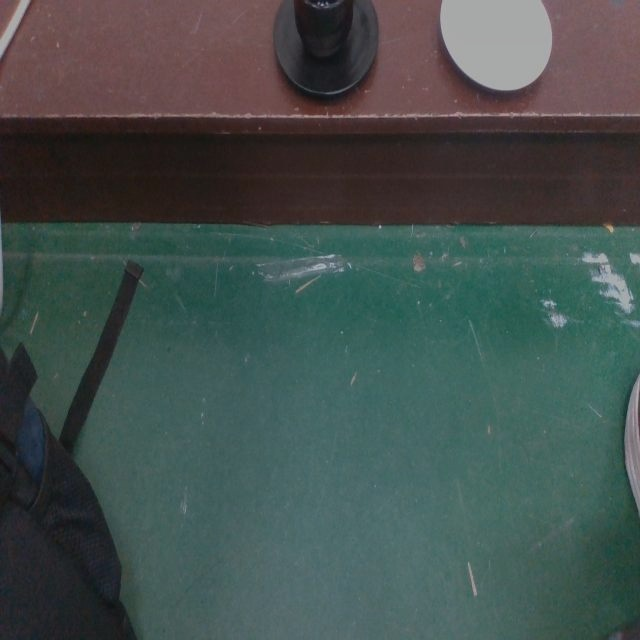black: (270, 0, 380, 106)
white: (438, 0, 554, 95)
